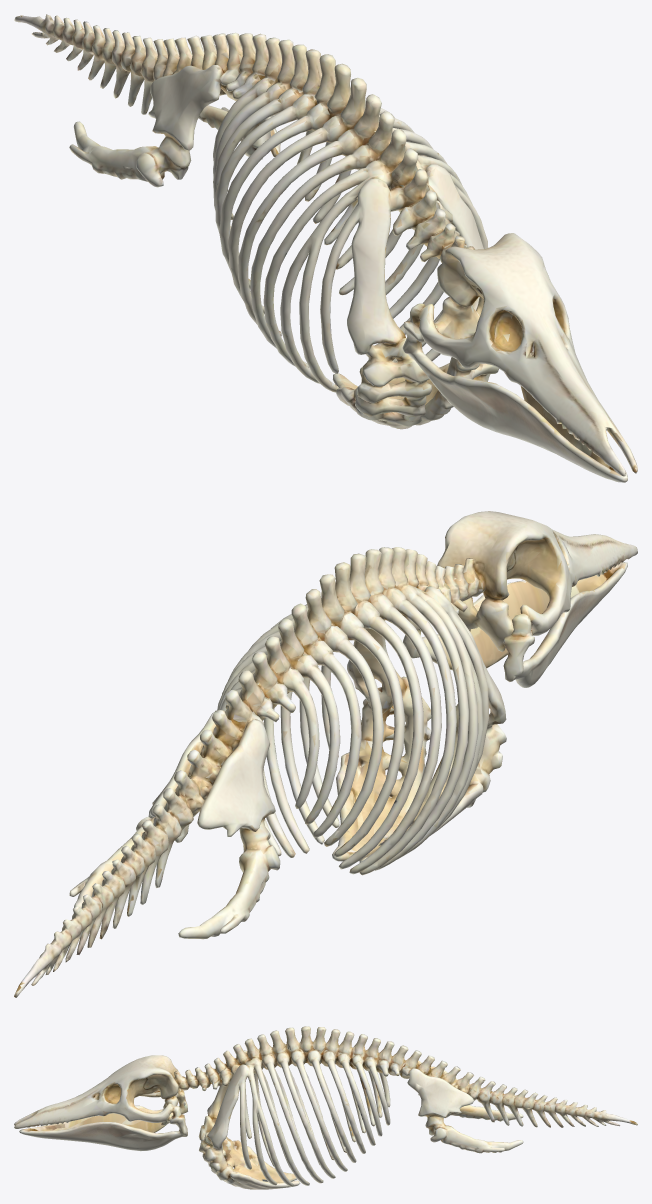
The model's file is whale.glb.
The picture shows the model from 3 angles, top to bottom: view 1: azimuth 30°, elevation 25°; view 2: azimuth 150°, elevation 25°; view 3: azimuth 270°, elevation 25°; orthographic projection. The views are drawn at different scales.
Parts seen in each view (by area): view 1: whale; view 2: whale; view 3: whale.
Part boxes in pixels (box(x1,y1,x2,y2)): whale: box(14, 14, 637, 482); whale: box(14, 511, 637, 997); whale: box(14, 1026, 637, 1189).
Bounding box in the file's own units: 0.1882 × 0.2855 × 1.
1 material, 1 textured.
